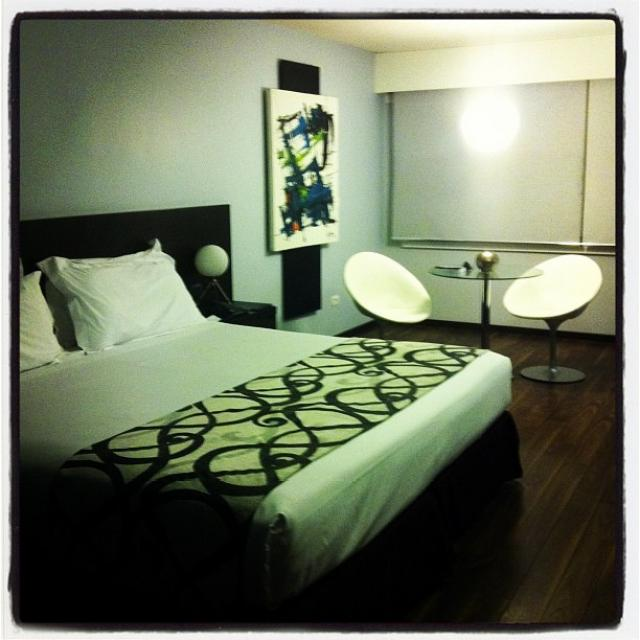chair: (502, 254, 602, 383), (342, 251, 433, 341)
dining table: (430, 251, 543, 349)
